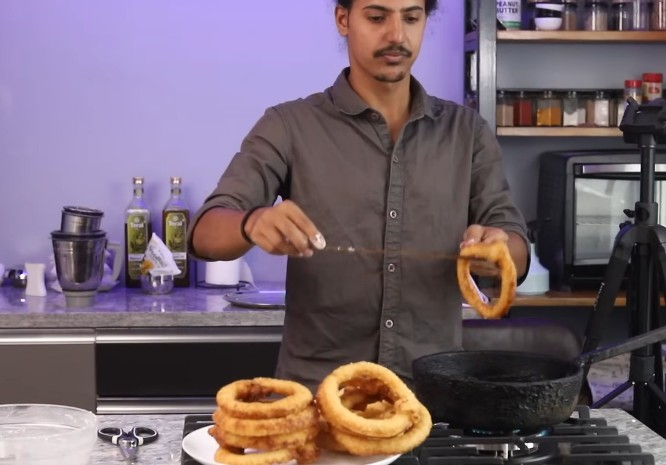sel_roti: (324, 360, 413, 433), (458, 240, 516, 317), (216, 376, 312, 416)
